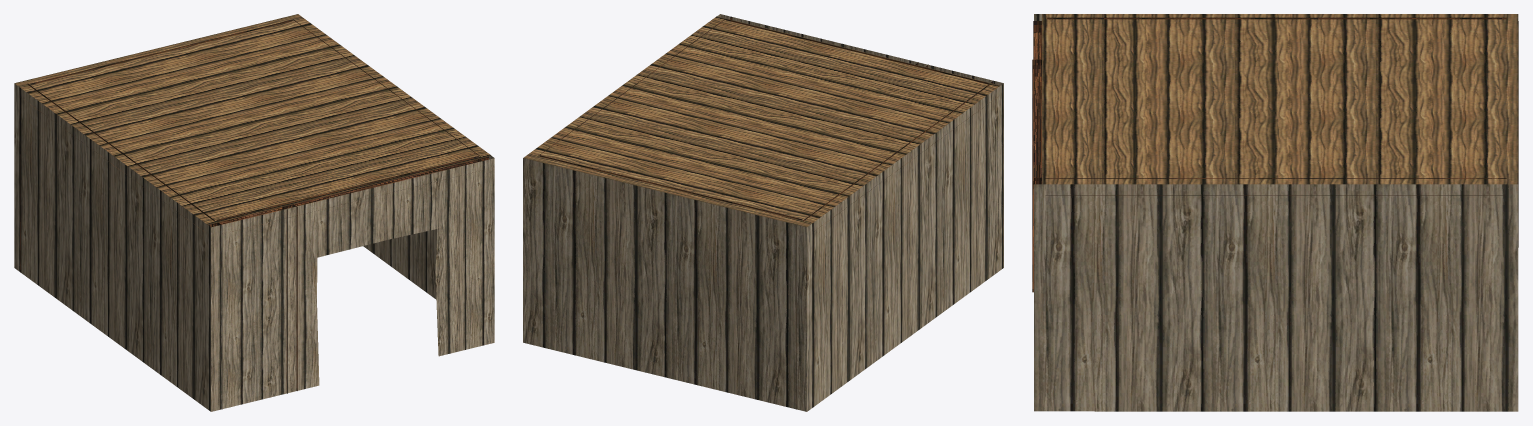
Rendered from LAKETOWN_WAREHOUSE2_PS_WH2_WH3_WEAPONROOM__GX.obj.
3 views of the same model, side by side, from view 1: azimuth 30°, elevation 25°; view 2: azimuth 150°, elevation 25°; view 3: azimuth 270°, elevation 25° (orthographic). The views are drawn at different scales.
Visible parts, largest first — view 1: _WeaponRoom__GX; view 2: _WeaponRoom__GX; view 3: _WeaponRoom__GX.
Boxes of the visible parts, left/top/right/bottom form: _WeaponRoom__GX: left=14, top=14, right=494, bottom=411; _WeaponRoom__GX: left=523, top=14, right=1003, bottom=411; _WeaponRoom__GX: left=1032, top=14, right=1518, bottom=411.
Size of the model in its own units: 671 by 420 by 808.
